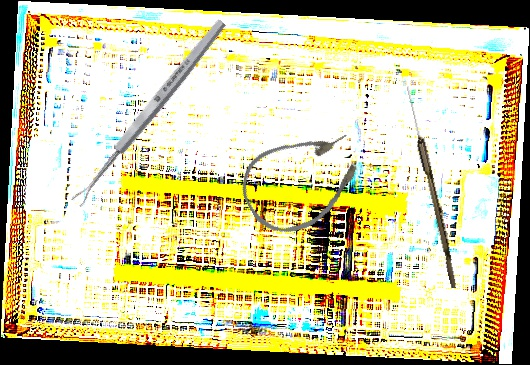Cannula: (229, 113, 377, 248)
Surgical Spoon: (69, 16, 229, 209), (401, 85, 462, 289)
